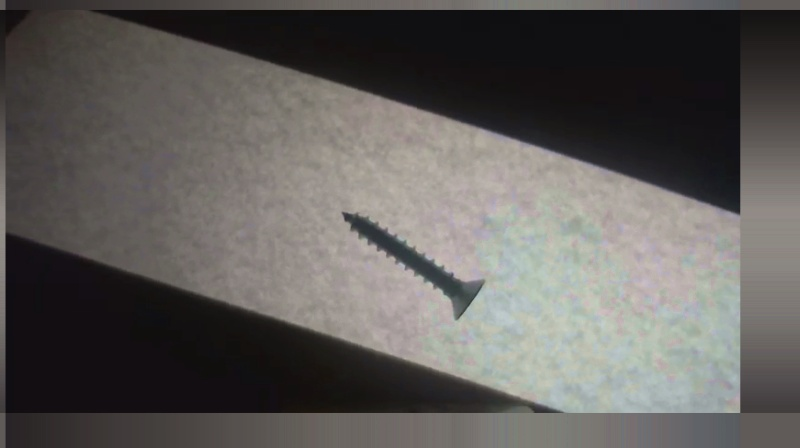S001: (339, 207, 487, 322)
